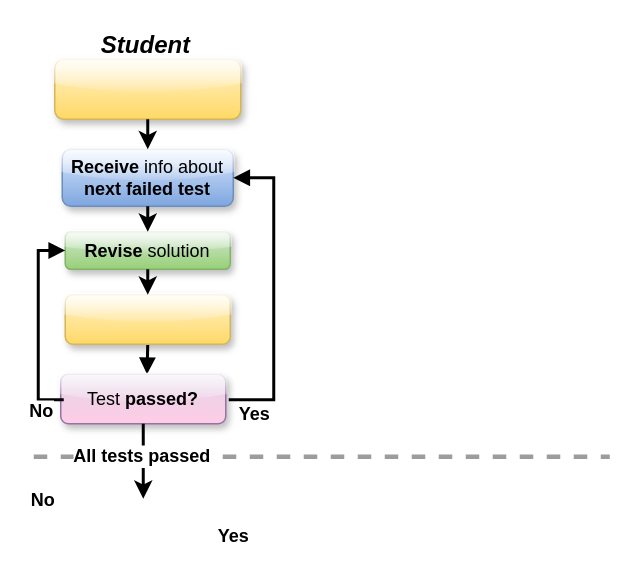
The diagram is 639 pixels wide and 572 high, and some of its shapes have lost their labels. The centre of each missing label's shape, as x and y in pixels:
"Rerun teacher's tests" goes at (148,321).
"Run teacher's tests on buggy solution" goes at (148,91).
